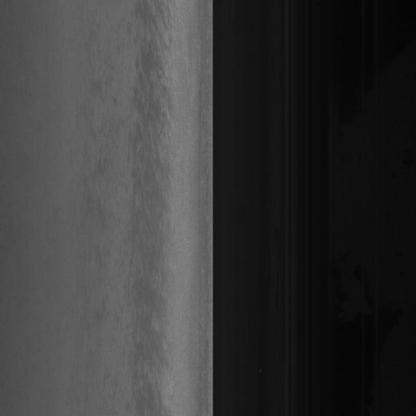silk_spot: (124, 59, 189, 300)
